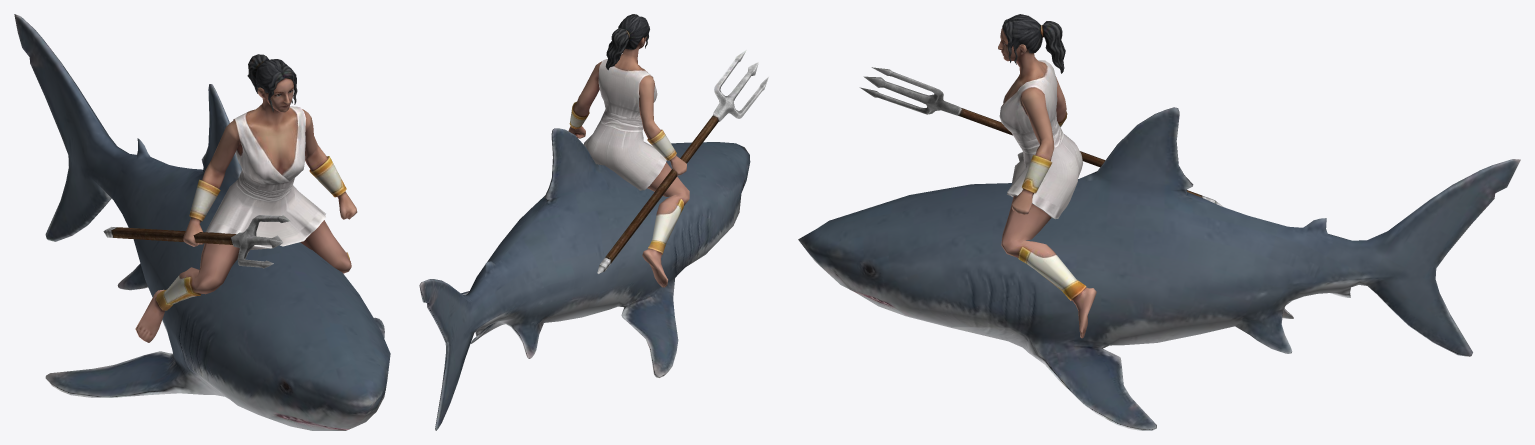
Rendered from 128-nereid.glb.
3 renders of one model, left to right at view 1: azimuth 30°, elevation 25°; view 2: azimuth 150°, elevation 25°; view 3: azimuth 270°, elevation 25°, orthographic. The views are drawn at different scales.
Bounding box in the file's own units: 2 × 2.23 × 4.32.
3 materials, 3 textured.
